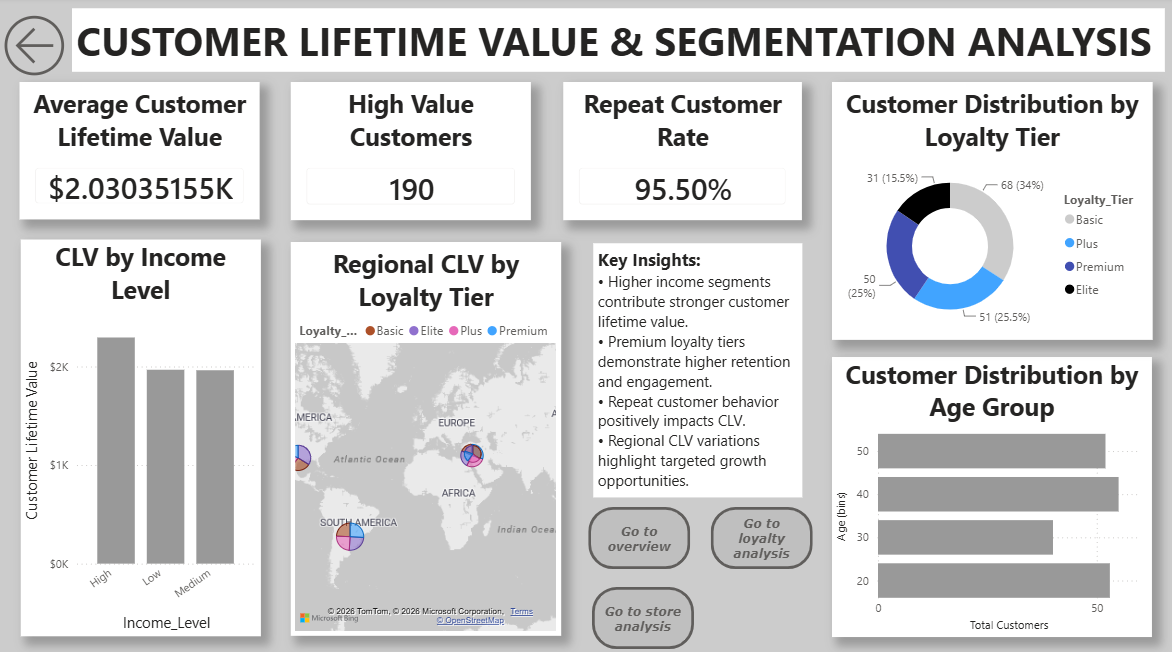

What the dashboard file says about the page in this screenshot:
{"tool":"powerbi","page":{"name":"CLV & Customer Segmentation","canvas":[1280,720],"ordinal":3},"visuals":[{"type":"textbox","box":[80.8,11.8,1183.3,69.1],"z":0},{"type":"cardVisual","title":"Average Customer Lifetime Value","fields":{"Data":["Measures_Table.Customer Lifetime Value"]},"box":[25,92.6,260.2,148.5],"z":1000},{"type":"cardVisual","title":"High Value Customers","fields":{"Data":["Measures_Table.High Value Customers"]},"box":[317.5,92.6,260.2,149.9],"z":2000},{"type":"cardVisual","title":"Repeat Customer Rate","fields":{"Data":["Measures_Table.Repeat Customer Rate %"]},"box":[613,92.6,258.7,149.9],"z":3000},{"type":"clusteredColumnChart","title":"CLV by Income Level","fields":{"Category":["Customer_Demographics.Income_Level"],"Y":["Measures_Table.Customer Lifetime Value"]},"box":[25.4,262.6,259.6,429.8],"z":4000},{"type":"clusteredBarChart","title":"Customer Distribution by Age Group","fields":{"Y":["Measures_Table.Total Customers"],"Category":["Customer_Demographics.Age (bins)"]},"box":[904.3,389.5,346.2,302.9],"z":5000},{"type":"map","title":"Regional CLV by Loyalty Tier","fields":{"Category":["Store_Locations.Region"],"Series":["Loyalty_Program.Loyalty_Tier"],"Size":["Measures_Table.Customer Lifetime Value"]},"box":[317.8,265.6,292.5,426.8],"z":6000},{"type":"donutChart","title":"Customer Distribution by Loyalty Tier","fields":{"Category":["Loyalty_Program.Loyalty_Tier"],"Y":["Measures_Table.Total Customers"]},"box":[904,92.6,346.9,279.3],"z":7000},{"type":"textbox","box":[645.3,266.1,226.4,274.9],"z":8000},{"type":"actionButton","box":[640.2,552.1,110.4,67.1],"z":9000},{"type":"actionButton","box":[773,552.1,110.4,67.1],"z":10000},{"type":"actionButton","box":[644.6,638.7,110.4,67.1],"z":11000},{"type":"actionButton","box":[0,11.8,80.8,80.8],"z":12000}]}

Visuals, with their boxes in screenshot pixels (x1, y1, x2, y2), scaled from the page's 1280x720 canvas onto the 1172x652 screenshot:
textbox: bbox=[74, 11, 1157, 73]
"Average Customer Lifetime Value" cardVisual: bbox=[23, 84, 261, 218]
"High Value Customers" cardVisual: bbox=[291, 84, 529, 220]
"Repeat Customer Rate" cardVisual: bbox=[561, 84, 798, 220]
"CLV by Income Level" clusteredColumnChart: bbox=[23, 238, 261, 627]
"Customer Distribution by Age Group" clusteredBarChart: bbox=[828, 353, 1145, 627]
"Regional CLV by Loyalty Tier" map: bbox=[291, 241, 559, 627]
"Customer Distribution by Loyalty Tier" donutChart: bbox=[828, 84, 1145, 337]
textbox: bbox=[591, 241, 798, 490]
actionButton: bbox=[586, 500, 687, 561]
actionButton: bbox=[708, 500, 809, 561]
actionButton: bbox=[590, 578, 691, 639]
actionButton: bbox=[0, 11, 74, 84]
